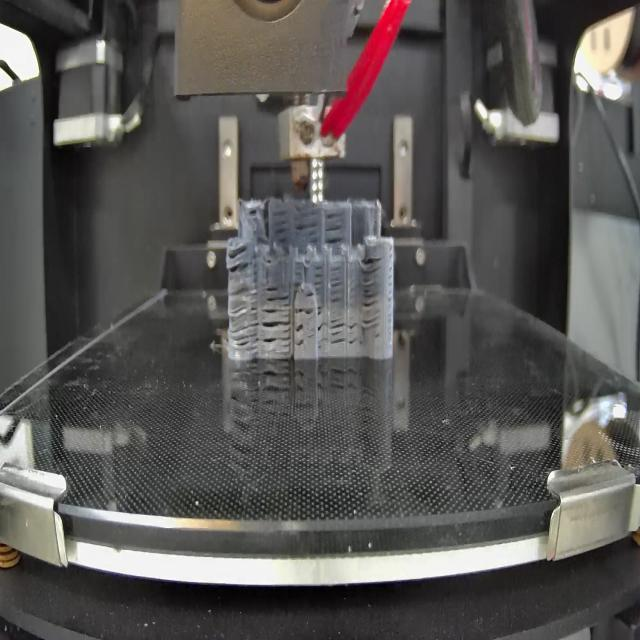cracks: (229, 286, 259, 350), (361, 255, 384, 337), (263, 307, 291, 352), (328, 313, 361, 350), (228, 248, 258, 277), (295, 211, 319, 247), (324, 209, 347, 245), (270, 209, 291, 244), (330, 264, 345, 304), (266, 282, 289, 304), (296, 304, 324, 319), (293, 260, 304, 291), (314, 261, 324, 291), (317, 323, 326, 349), (296, 324, 305, 347), (247, 206, 260, 221), (304, 292, 315, 302)
